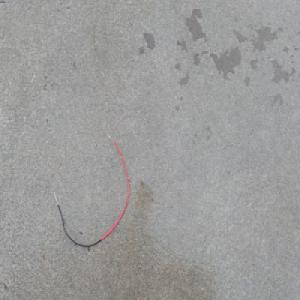Wire: (54, 131, 131, 248)
